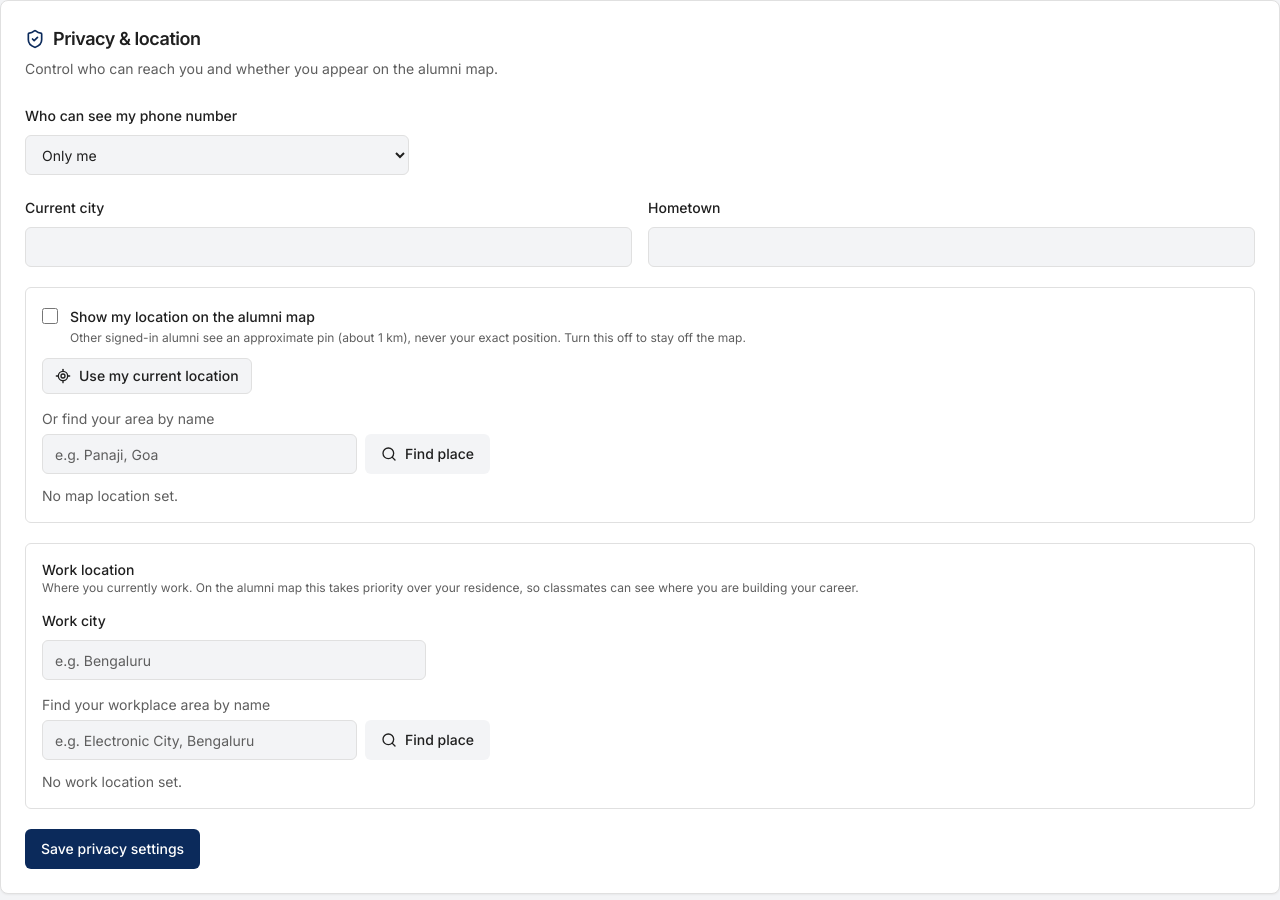
Test case: <PrivacySection> › fills an empty city from the detected location
Click the button "Use my current location". click: (147, 376)
box: left=42, top=358, right=252, bottom=394
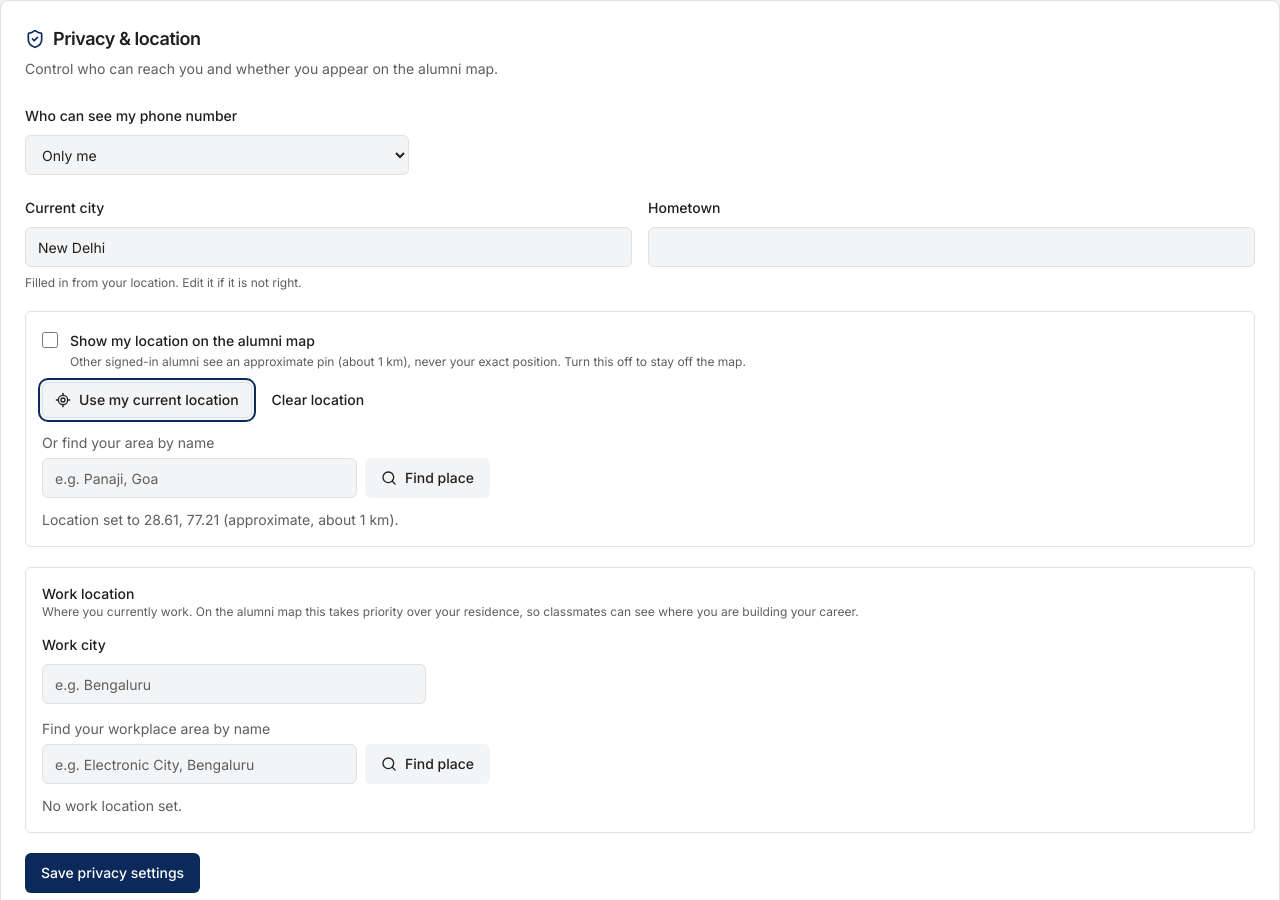
Now the field labelled "Current city" holds "New Delhi", box left=25, top=227, right=632, bottom=267
Now the text "Filled in from your location. Edit it if it is not right." is shown, box left=25, top=275, right=302, bottom=290
